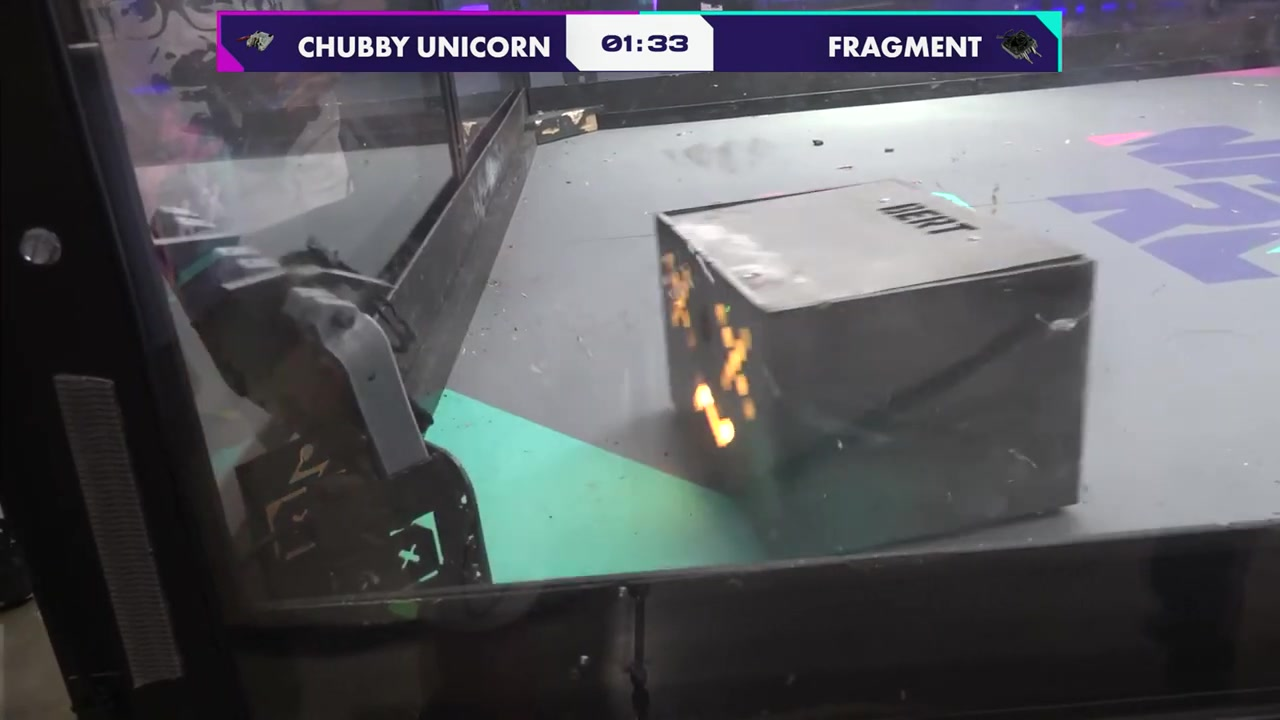combatbot: (148, 201, 437, 479)
housebot: (652, 180, 1095, 563)
